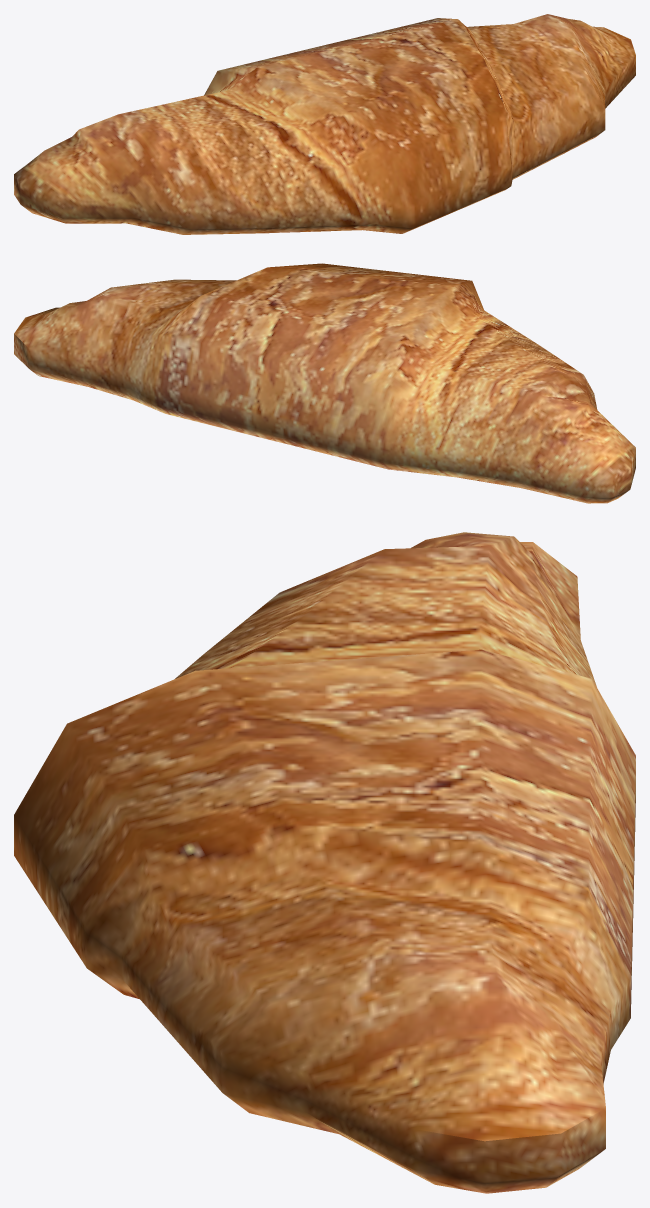
Rendered from Croissant.fbx.
The picture shows the model from 3 angles, top to bottom: view 1: azimuth 30°, elevation 25°; view 2: azimuth 150°, elevation 25°; view 3: azimuth 270°, elevation 25°; orthographic projection. The views are drawn at different scales.
Parts seen in each view (by area): view 1: Croissant_LOD0; view 2: Croissant_LOD0; view 3: Croissant_LOD0.
Part boxes in pixels (x1,y1,x2,y2): Croissant_LOD0: (14,14,635,234); Croissant_LOD0: (14,263,635,503); Croissant_LOD0: (14,532,635,1193).
Size of what is drawn, in the model's own units: 28.03 by 4.21 by 12.48.
